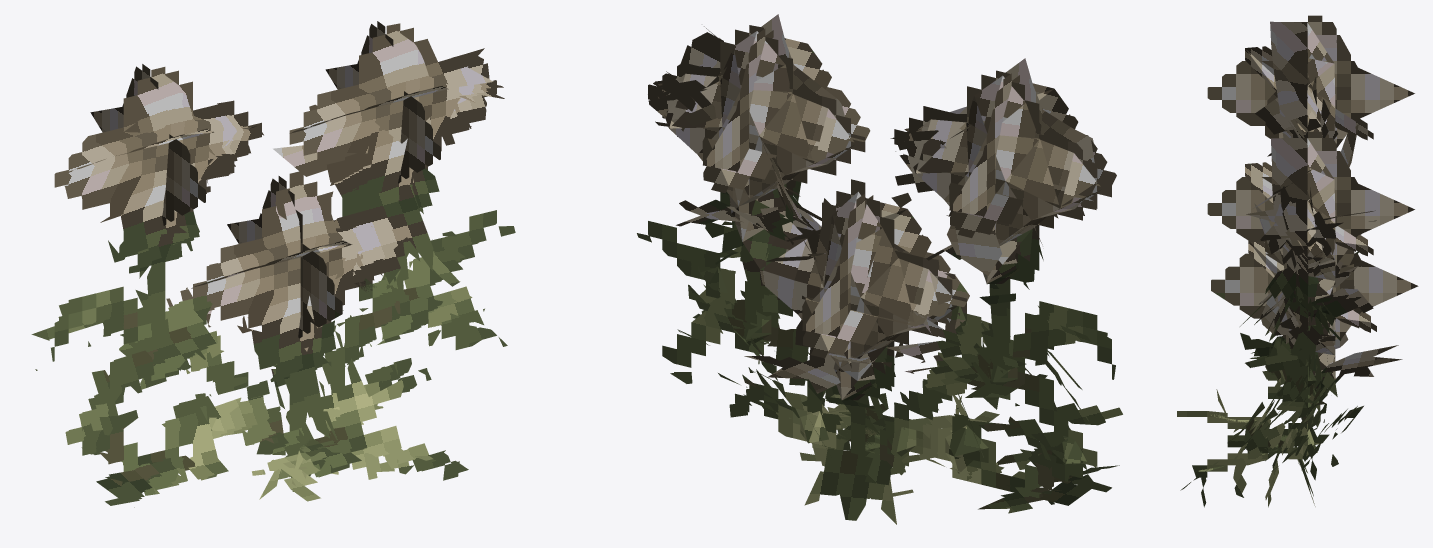
Rendered from flower_907_cut_hd.glb.
3 views of the same model, side by side, from view 1: azimuth 30°, elevation 25°; view 2: azimuth 150°, elevation 25°; view 3: azimuth 270°, elevation 25° (orthographic). The views are drawn at different scales.
Parts seen in each view (by area): view 1: flower_907_cut_lod0; view 2: flower_907_cut_lod0; view 3: flower_907_cut_lod0.
Boxes of the visible parts, <box> form: flower_907_cut_lod0: <box>31,21,515,507</box>; flower_907_cut_lod0: <box>637,14,1122,524</box>; flower_907_cut_lod0: <box>1177,15,1418,507</box>.
Size of the model in its own units: 0.7747 by 0.6824 by 0.3654.
1 material, 1 textured.
